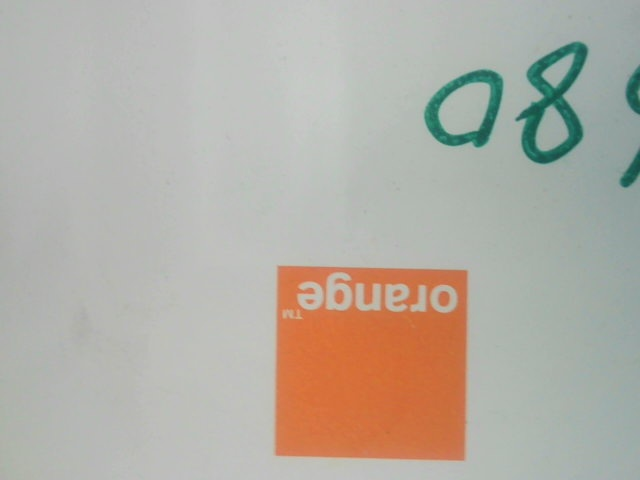AR_Orange: (258, 259, 476, 464)
